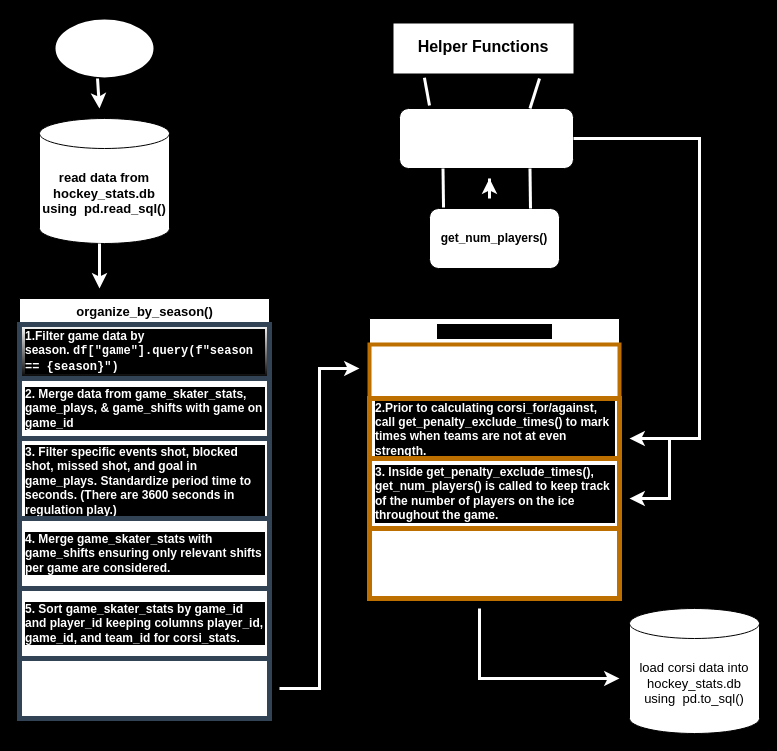
Some shapes in this 777 by 751 pixel diagram are drawn without their labels. The centre of each missing label's shape, as x and y in pixels:
"1. For each game, load the load the shifts and plays data." belongs at (x=494, y=371).
"4. Calculate corsi_for/against excluding invalid plays." belongs at (x=494, y=563).
"6. Call create_corsi_stats() function to calculate corsi statistics." belongs at (x=144, y=688).
"get_penalty_exclude_times()" belongs at (x=486, y=138).
"Start" belongs at (x=104, y=48).
